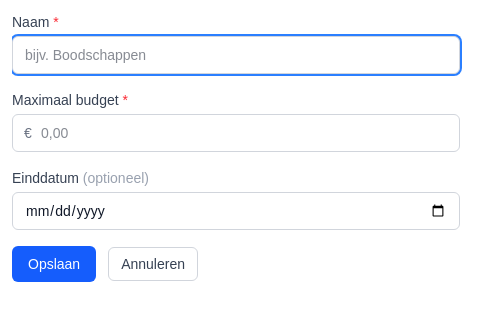
Test: CategoryForm › validation › shows an error when the form is submitted with an empty name
In the number field: point(236, 133) [12,114,460,152], type "100"
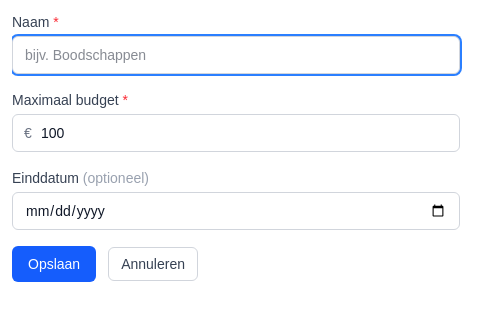
Click the button "Opslaan": point(54, 264) [12,246,96,282]
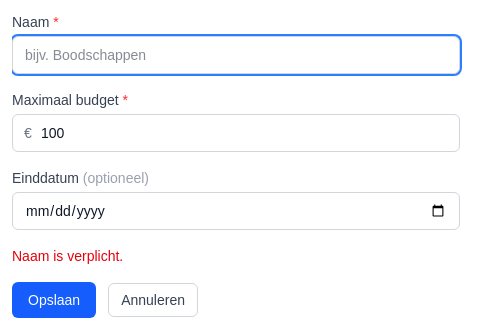
Now the text "Naam is verplicht." is shown, box [12,248,123,264]
